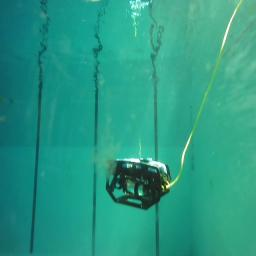Side: (107, 157, 171, 211)
